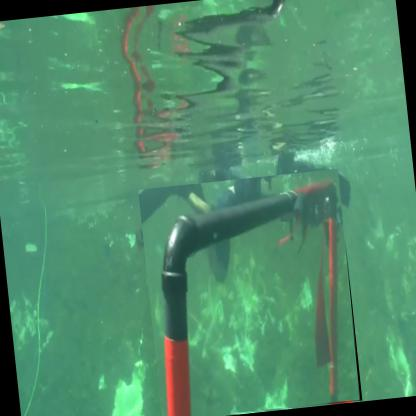gate: (139, 169, 365, 416)
